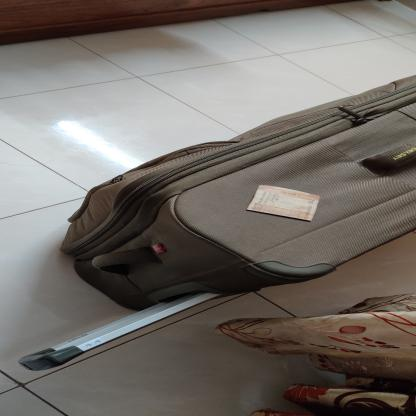New10Back: (246, 185, 322, 221)
